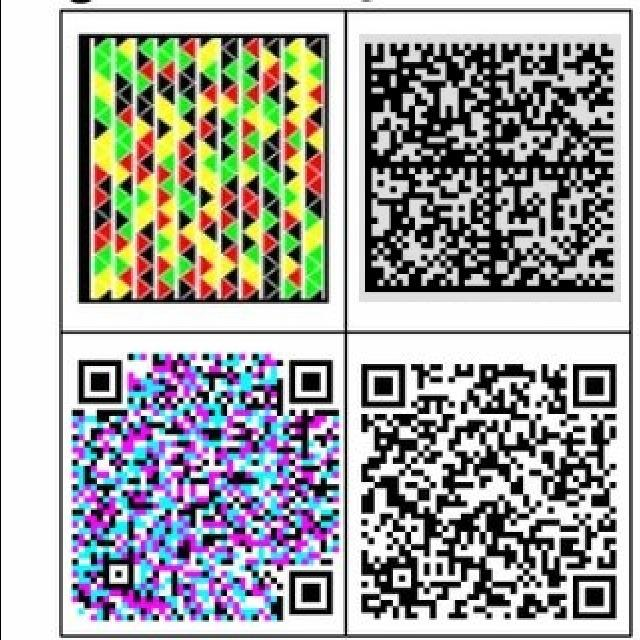Data-Matrix: (358, 34, 620, 302)
